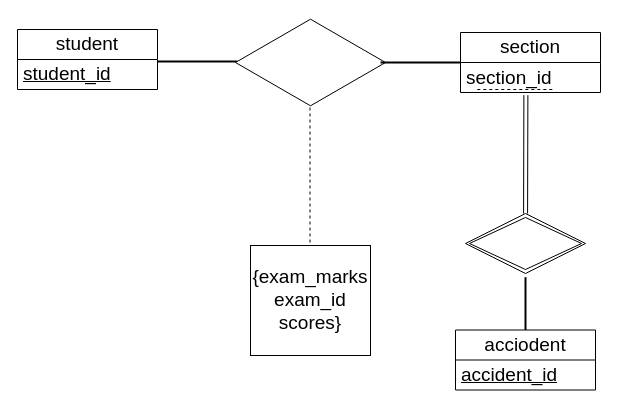
This 618x408 diagram has some shape labels left out. The shapes that lost their labels are listed below. From the top down, each one's box as (x1, y1, x2, y2) in pixels, then its label:
(234, 16, 386, 108): exam _marks
(464, 212, 586, 274): sec_course
